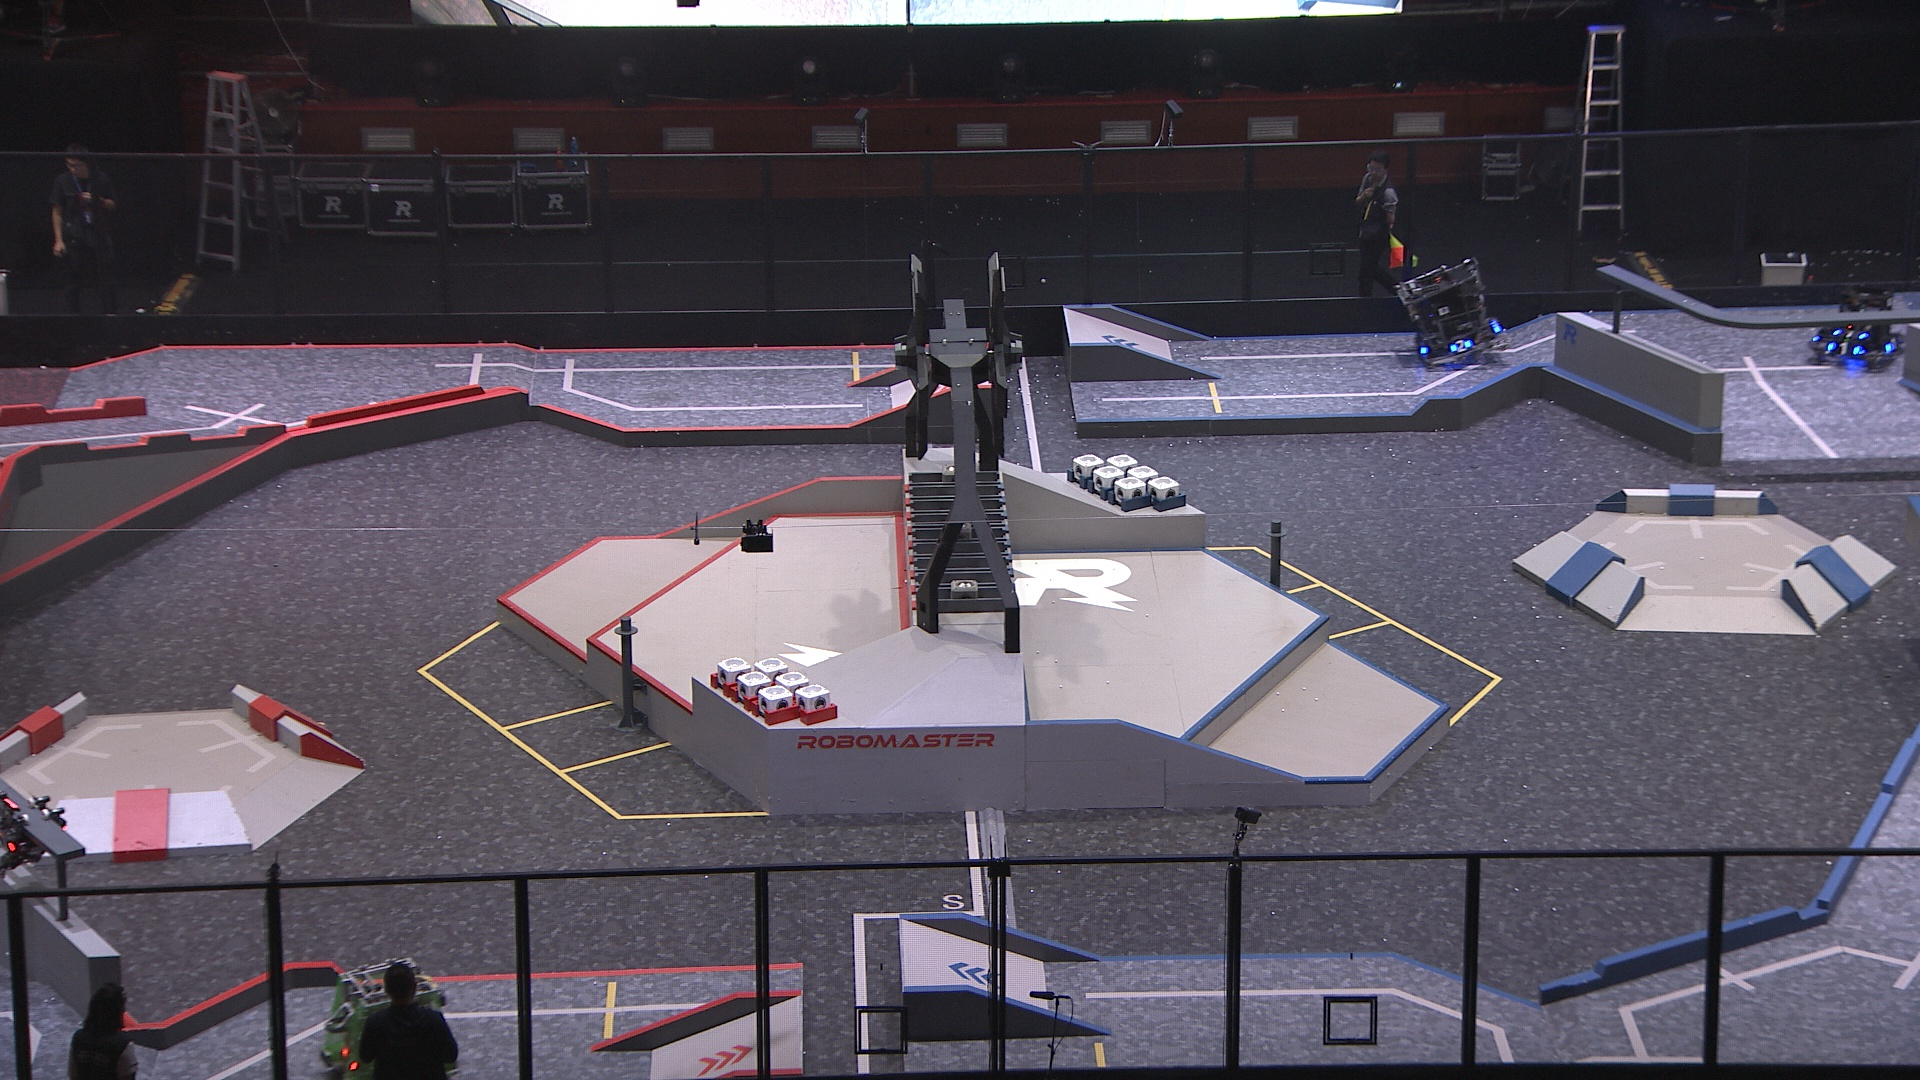armor: (1825, 342, 1865, 356), (1830, 327, 1869, 342), (1447, 338, 1476, 353), (1884, 335, 1902, 352)
car: (315, 953, 462, 1080), (1396, 255, 1509, 367), (1808, 286, 1908, 371)
